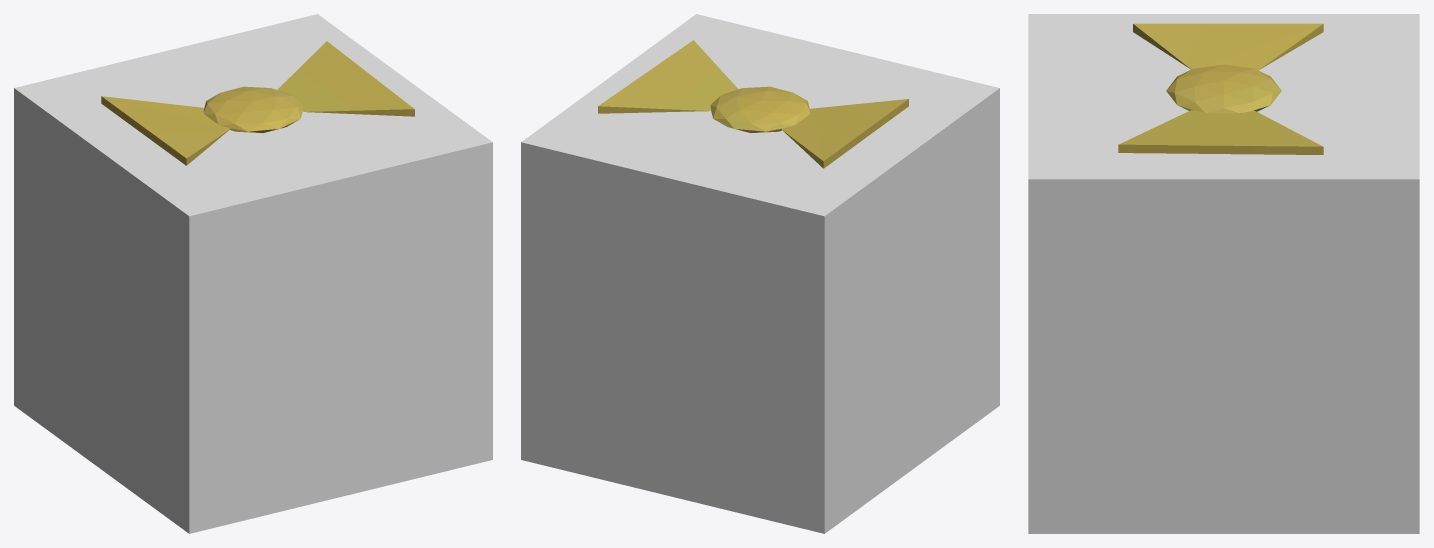
The model's file is beng.dae.
3 views of the same model, side by side, from view 1: azimuth 30°, elevation 25°; view 2: azimuth 150°, elevation 25°; view 3: azimuth 270°, elevation 25° (orthographic). The views are drawn at different scales.
Parts seen in each view (by area): view 1: Cube; view 2: Cube; view 3: Cube.
Boxes of the visible parts, left/top/right/bottom form: Cube: left=14, top=14, right=492, bottom=533; Cube: left=521, top=14, right=999, bottom=533; Cube: left=1028, top=14, right=1419, bottom=533.
Size of the model in its own units: 0.2042 by 0.2042 by 0.2134.
Materials: 1 (1 with a texture image).
